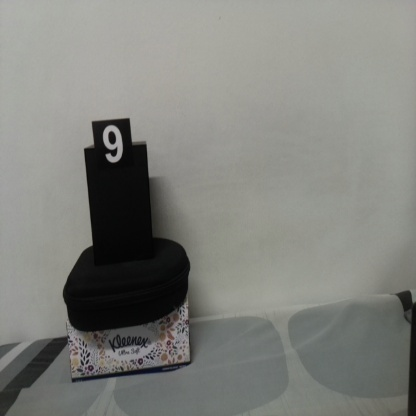id_9: (92, 122, 132, 179)
